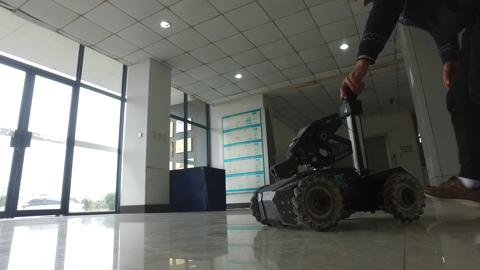chariot: (229, 75, 438, 242)
